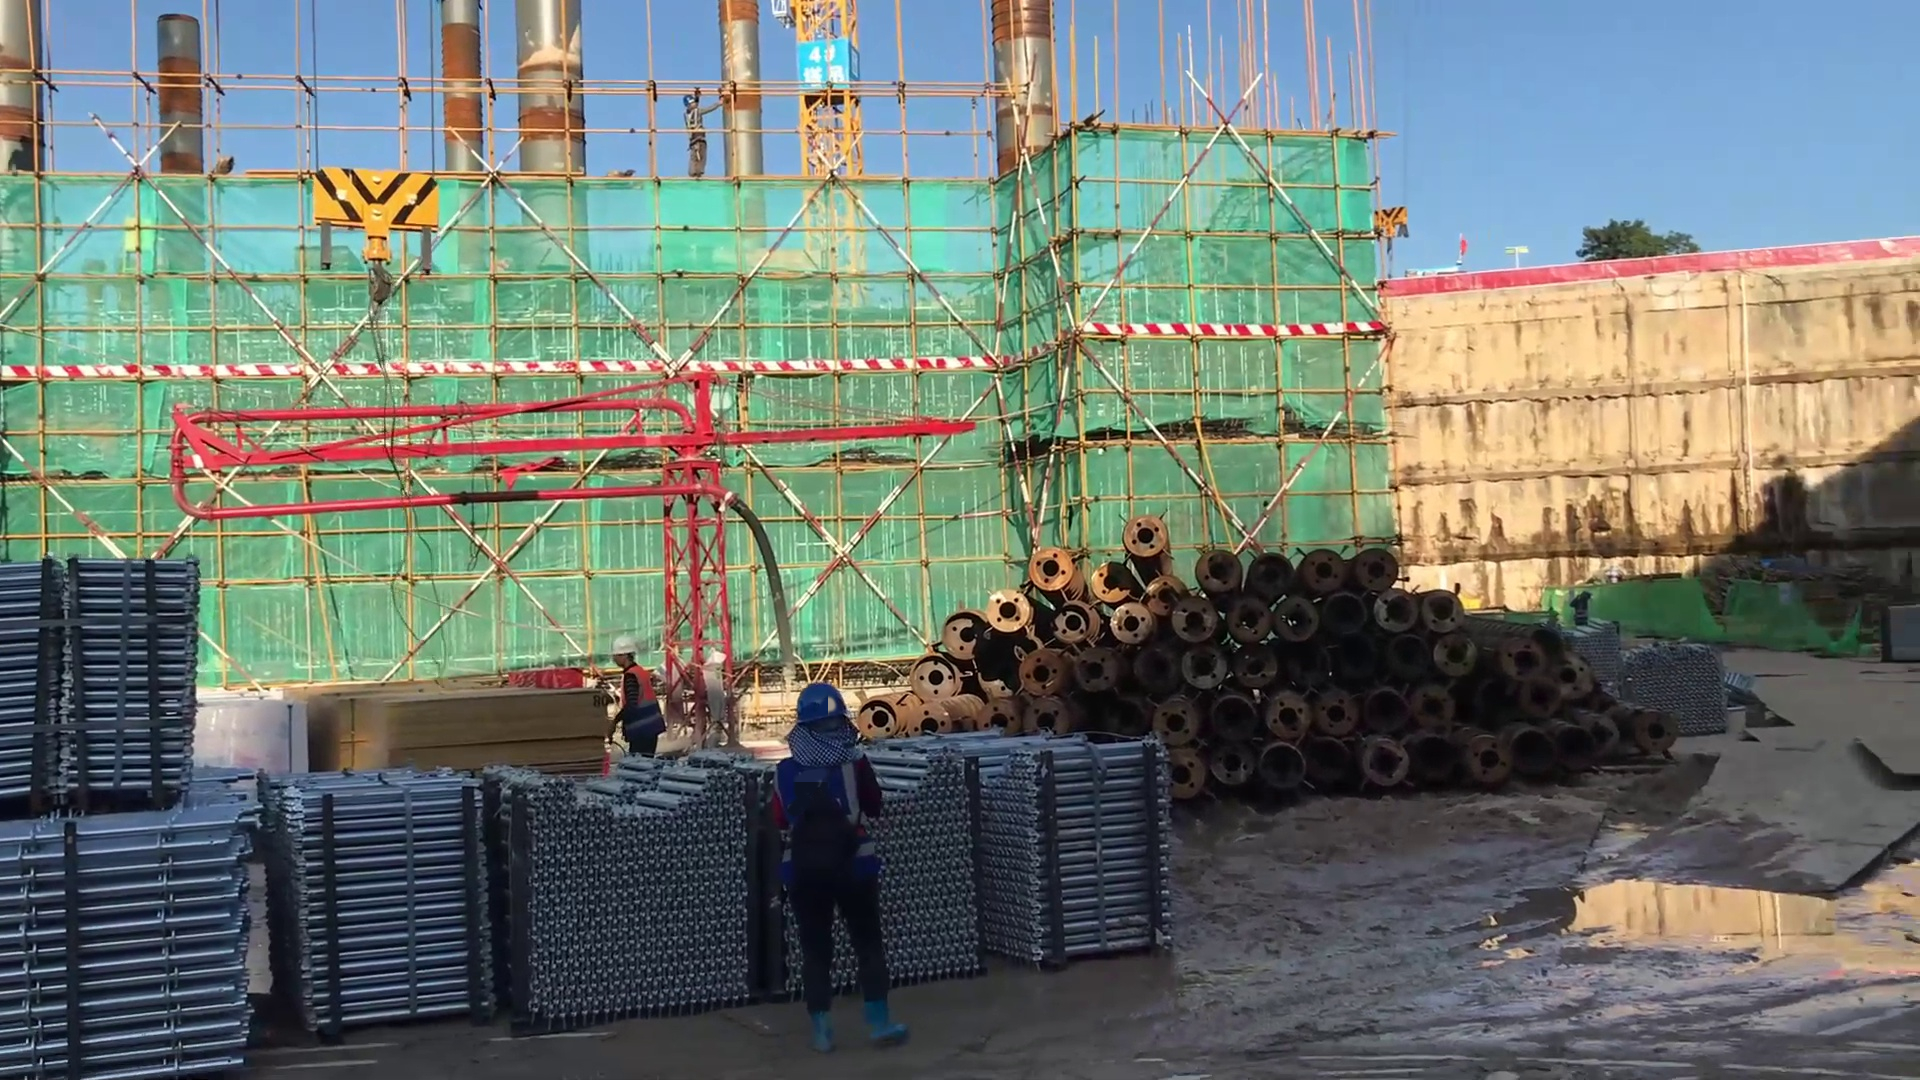board: (300, 677, 605, 787)
fence: (1375, 231, 1920, 319)
helmet: (784, 682, 857, 723), (609, 639, 641, 669), (682, 94, 695, 108)
hook: (306, 141, 452, 334), (1368, 196, 1423, 263)
person: (755, 682, 910, 1045), (609, 642, 671, 760), (678, 90, 715, 189)
scaffold: (888, 723, 1195, 984), (504, 739, 762, 1030), (1, 794, 258, 1080), (1, 510, 220, 827), (284, 760, 502, 1028), (1565, 614, 1731, 745)
slogan: (804, 37, 859, 103)
vest: (770, 755, 879, 885), (614, 666, 669, 740)
